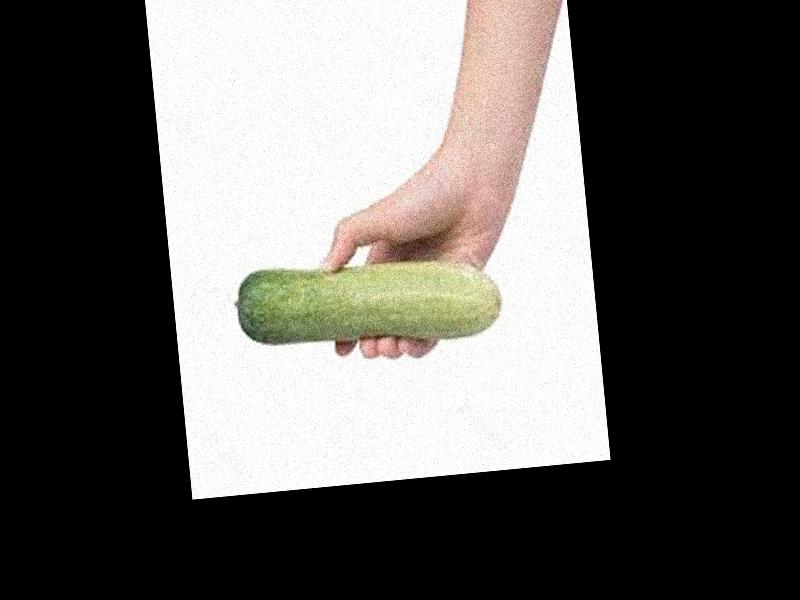Cucumber: (229, 242, 505, 356)
